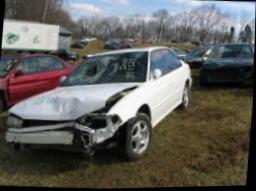Bonnet: (8, 84, 141, 120)
Bumper: (4, 122, 119, 156)
Light: (76, 113, 109, 130)
